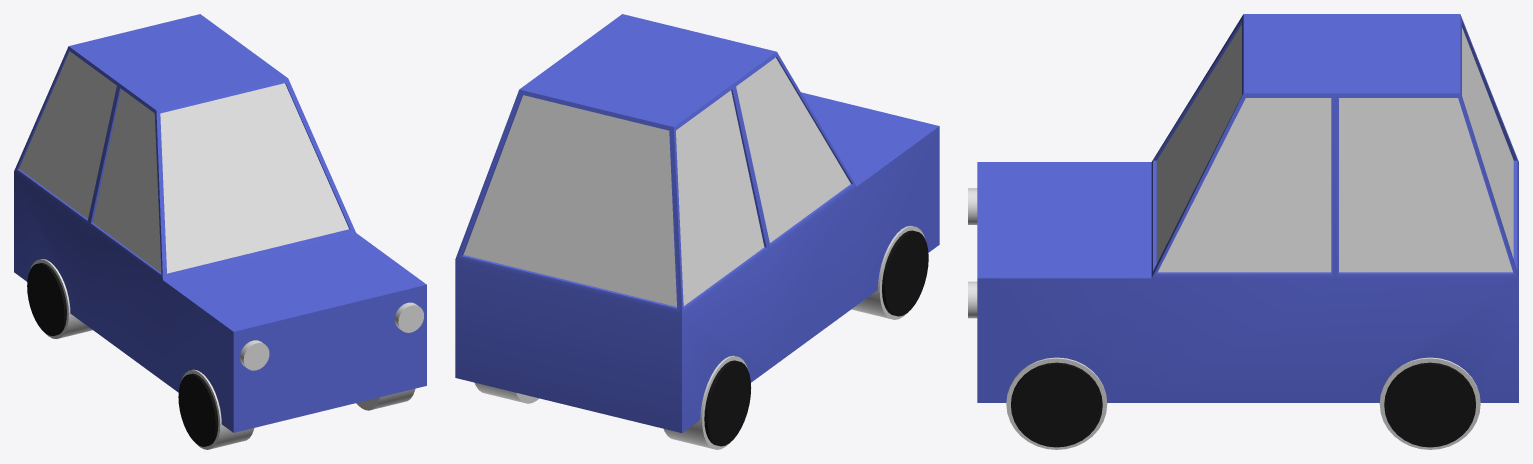
File: Car.fbx
3 views of the same model, side by side, from view 1: azimuth 30°, elevation 25°; view 2: azimuth 150°, elevation 25°; view 3: azimuth 270°, elevation 25° (orthographic). The views are drawn at different scales.
Parts seen in each view (by area): view 1: Car, Wheels, WheelSpaces, Lights; view 2: Car, Wheels, WheelSpaces; view 3: Car, Wheels, WheelSpaces, Lights.
Part boxes in pixels (bbox=[...]): Car: bbox=[14, 14, 426, 432]; Wheels: bbox=[27, 263, 218, 446]; WheelSpaces: bbox=[29, 259, 415, 449]; Lights: bbox=[240, 302, 423, 370]; Car: bbox=[455, 14, 939, 432]; Wheels: bbox=[704, 230, 928, 446]; WheelSpaces: bbox=[475, 225, 925, 449]; Car: bbox=[977, 14, 1518, 402]; Wheels: bbox=[1011, 362, 1475, 447]; WheelSpaces: bbox=[1006, 357, 1480, 449]; Lights: bbox=[968, 188, 977, 318].
Size of the model in its own units: 157 by 203 by 300.
